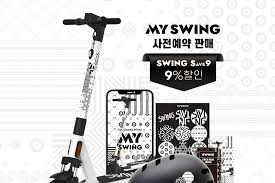kick_handler: (63, 12, 121, 41)
kick_neck: (64, 45, 100, 157)
